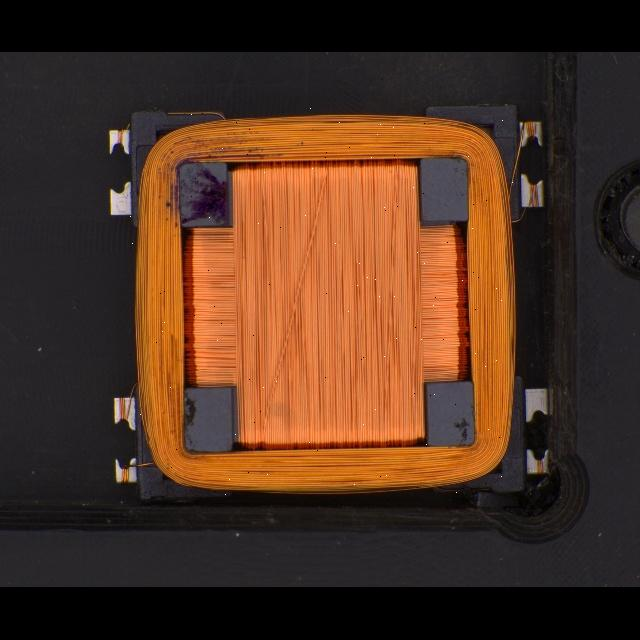Winding_Z: (127, 108, 521, 498)
